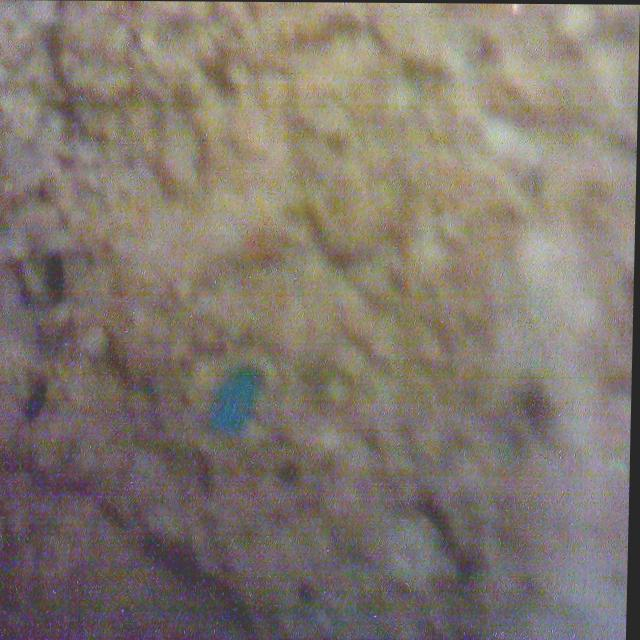microplastic: (209, 359, 268, 444)
